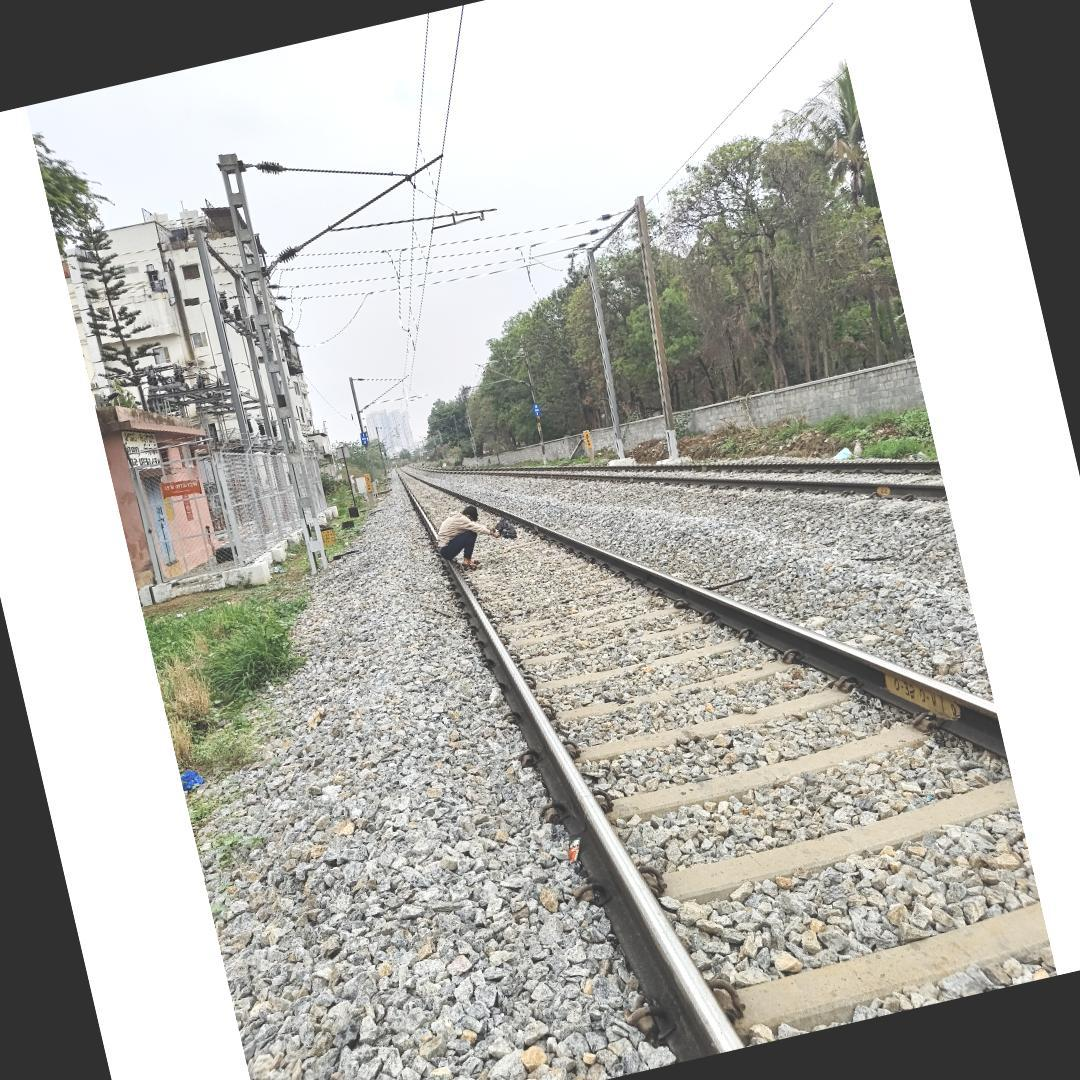sitting: (426, 496, 506, 575)
track: (376, 463, 1048, 1068)
